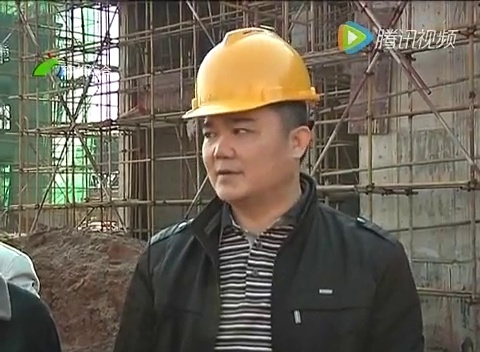yellow: (186, 26, 315, 206)
